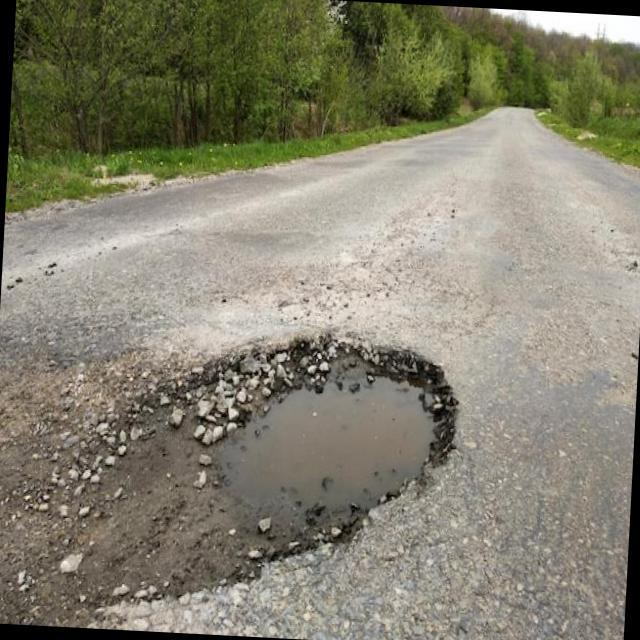Pothole: (37, 333, 459, 604)
